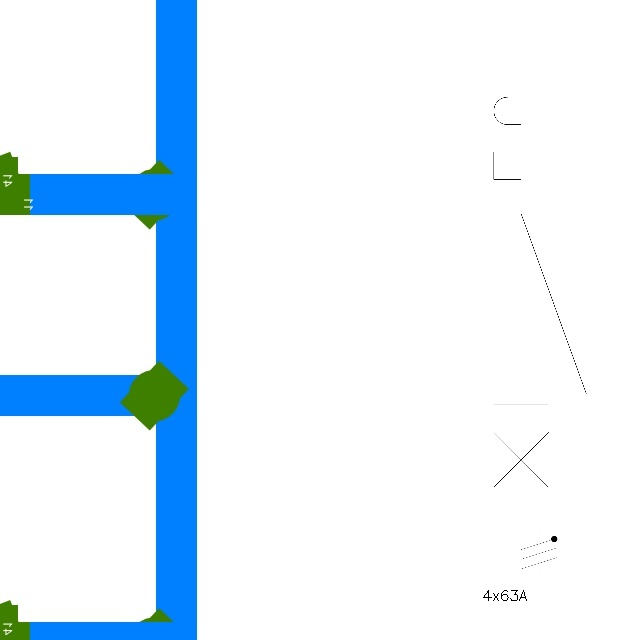interruptor_termomagnetico: (482, 51, 598, 526)
